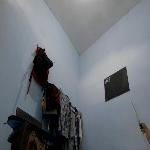Pedang: (121, 92, 149, 140)
